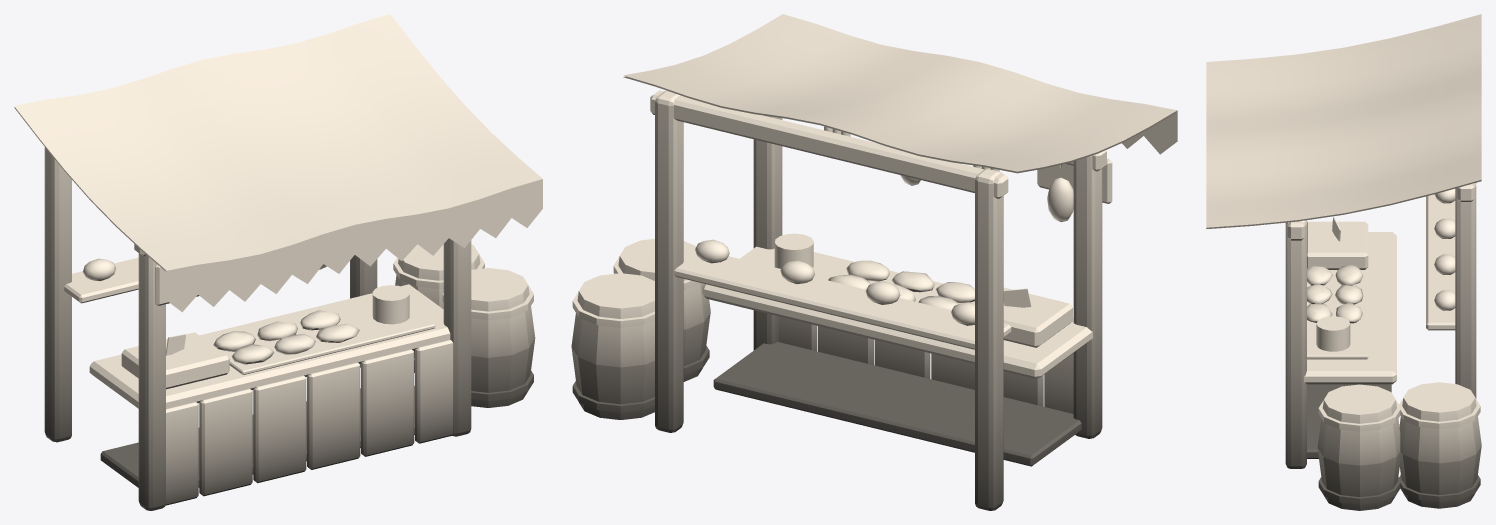
Rendered from SM_VK_MarketStall_Butcher.fbx.
3 renders of one model, left to right at view 1: azimuth 30°, elevation 25°; view 2: azimuth 150°, elevation 25°; view 3: azimuth 270°, elevation 25°, orthographic. The views are drawn at different scales.
Visible parts, largest first — view 1: SM_VK_MarketStall_Butcher.001; view 2: SM_VK_MarketStall_Butcher.001; view 3: SM_VK_MarketStall_Butcher.001.
Part boxes in pixels (left/top/right/bottom): SM_VK_MarketStall_Butcher.001: left=14, top=14, right=542, bottom=510; SM_VK_MarketStall_Butcher.001: left=571, top=14, right=1177, bottom=510; SM_VK_MarketStall_Butcher.001: left=1206, top=14, right=1481, bottom=510.
Size of the model in its own units: 4.4 by 3.15 by 2.6.
